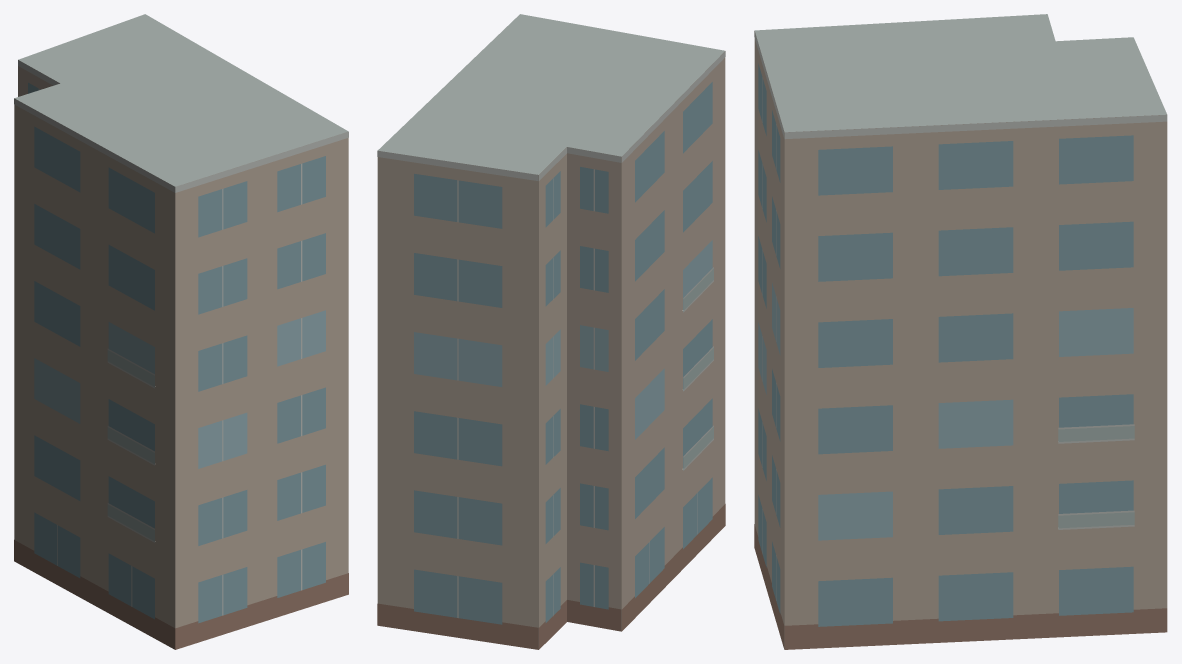
The model's file is survey-upis-32931457.glb.
3 renders of one model, left to right at view 1: azimuth 30°, elevation 25°; view 2: azimuth 150°, elevation 25°; view 3: azimuth 270°, elevation 25°, orthographic. The views are drawn at different scales.
Visible parts, largest first — view 1: survey-upis-32931457.tmp; view 2: survey-upis-32931457.tmp; view 3: survey-upis-32931457.tmp.
Part boxes in pixels (x1,y1,x2,y2): survey-upis-32931457.tmp: (14,14,348,649); survey-upis-32931457.tmp: (377,14,725,649); survey-upis-32931457.tmp: (754,14,1167,649).
Bounding box in the file's own units: 8.98 × 18.3 × 13.24.
